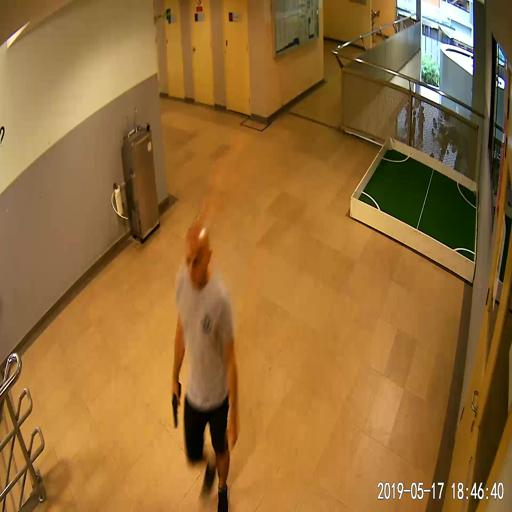pistol: (172, 381, 181, 427)
